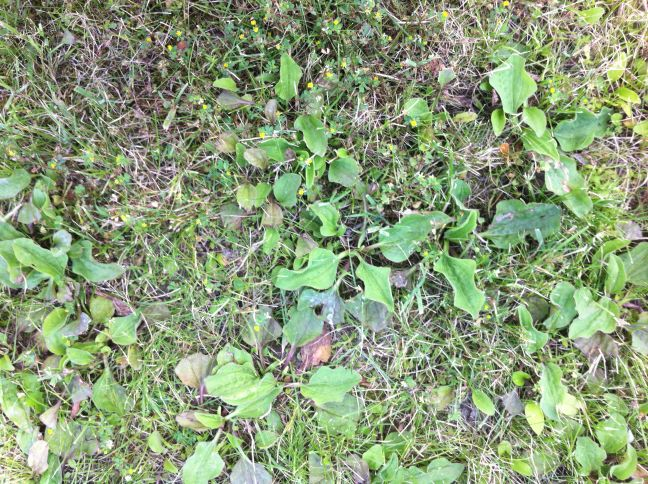weed1: (1, 168, 128, 412), (195, 305, 371, 445), (476, 42, 620, 187), (272, 198, 429, 309), (550, 226, 648, 378)
